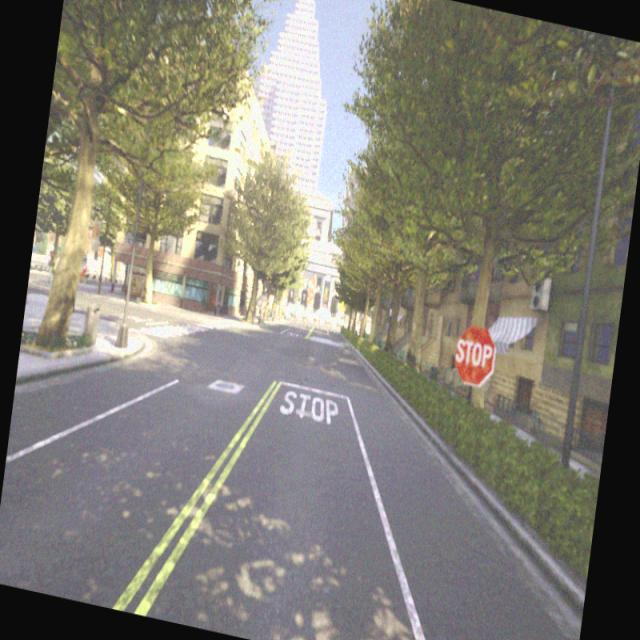stop sign: (452, 322, 497, 389), (455, 338, 493, 369)
